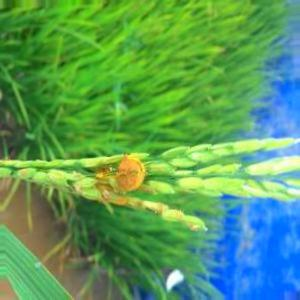Leaf_Scald: (114, 157, 147, 194)
